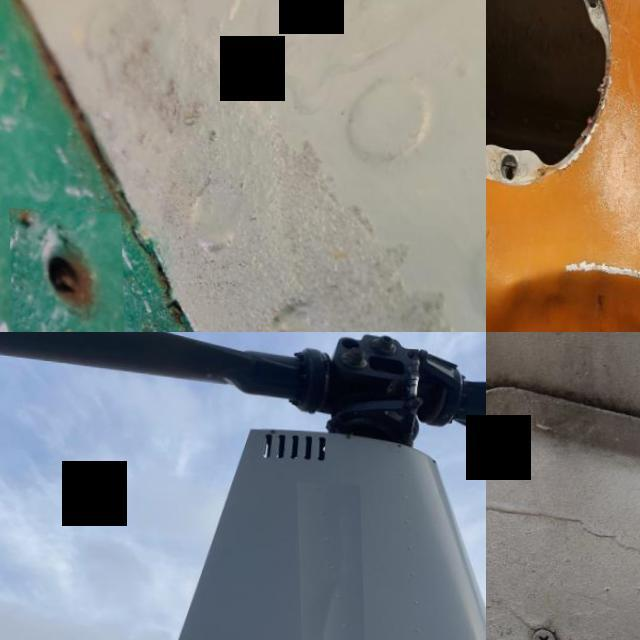Dent: (296, 478, 363, 640), (497, 266, 640, 332)
Missing_Fastener: (7, 207, 122, 332)
